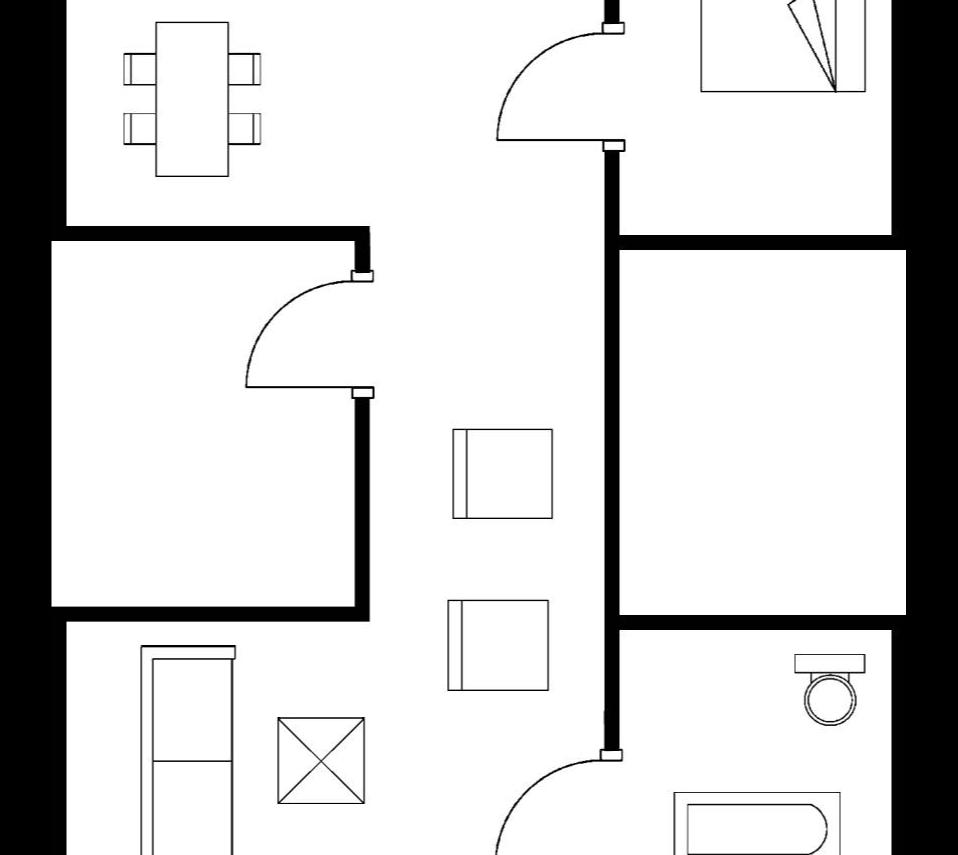bed: (691, 0, 871, 97)
dining_table: (116, 12, 270, 186)
sofa: (133, 636, 242, 855)
toilet: (786, 646, 872, 730)
tub: (666, 784, 848, 855)
